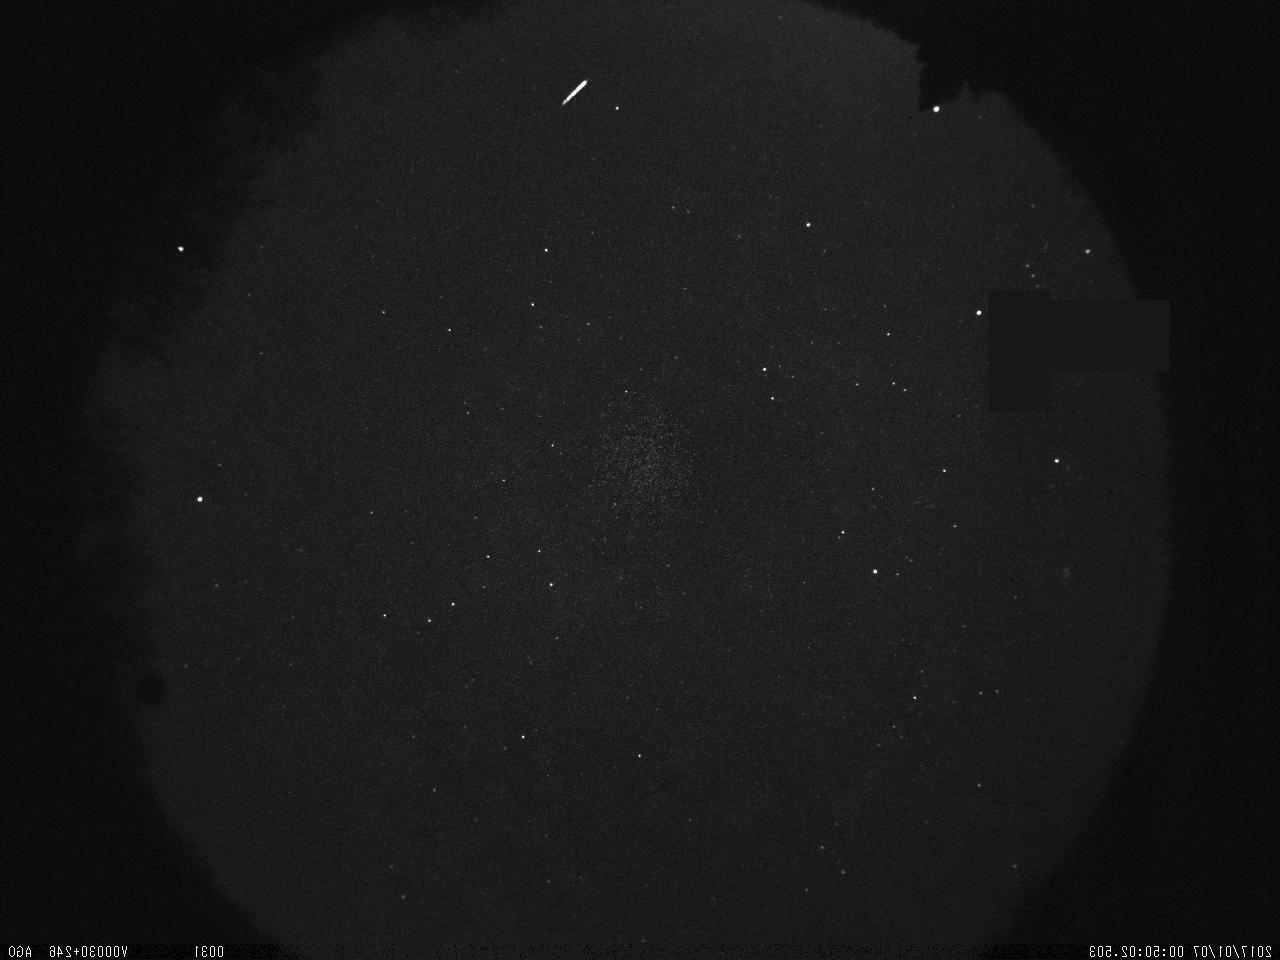meteor: (547, 73, 598, 113)
